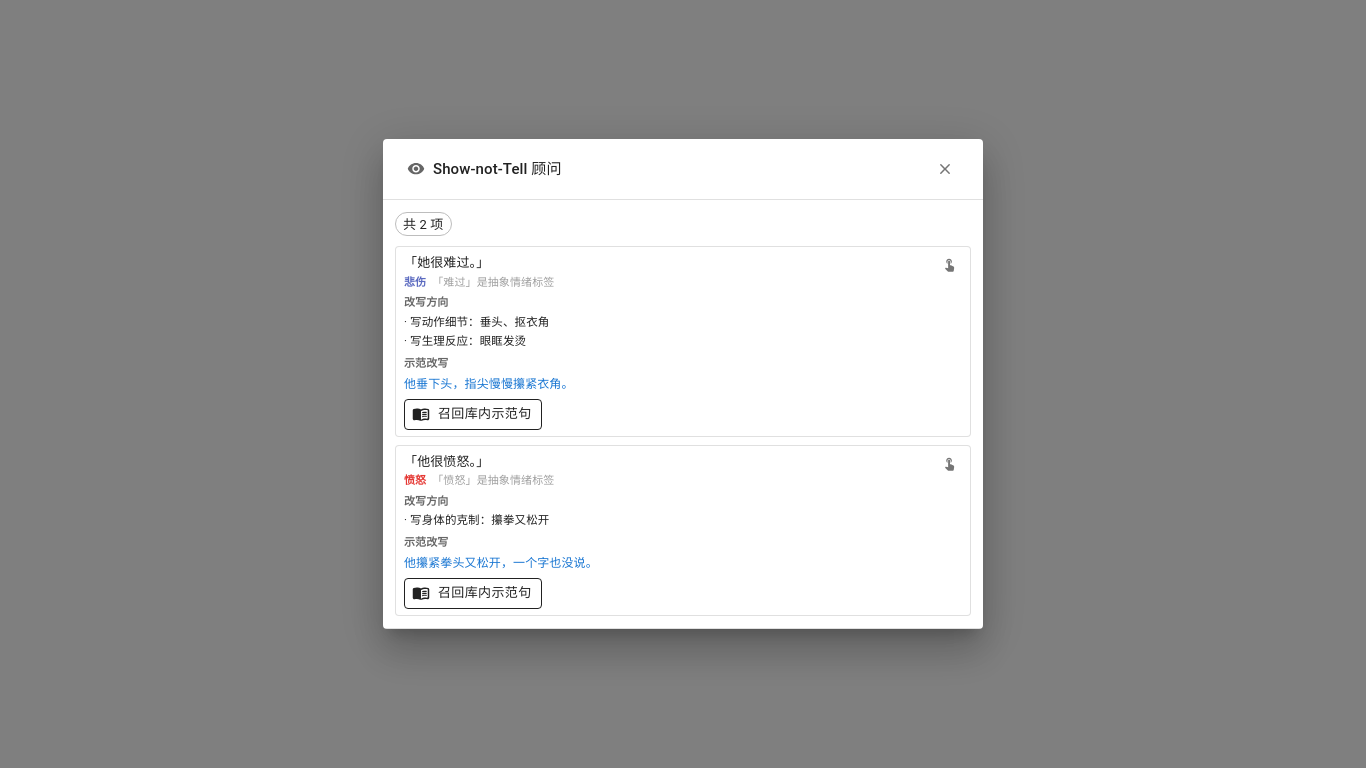
Scenario: Show-not-Tell 顾问面板（B3） › 召回库内示范句：以情绪词检索，渲染出处卡片；命中为空给出降级文案
What coordinates should you click on to do the following:
click the button with aria-label "召回库内示范句"
I would click on:
 (473, 414)
Its box is [404,399,542,430].
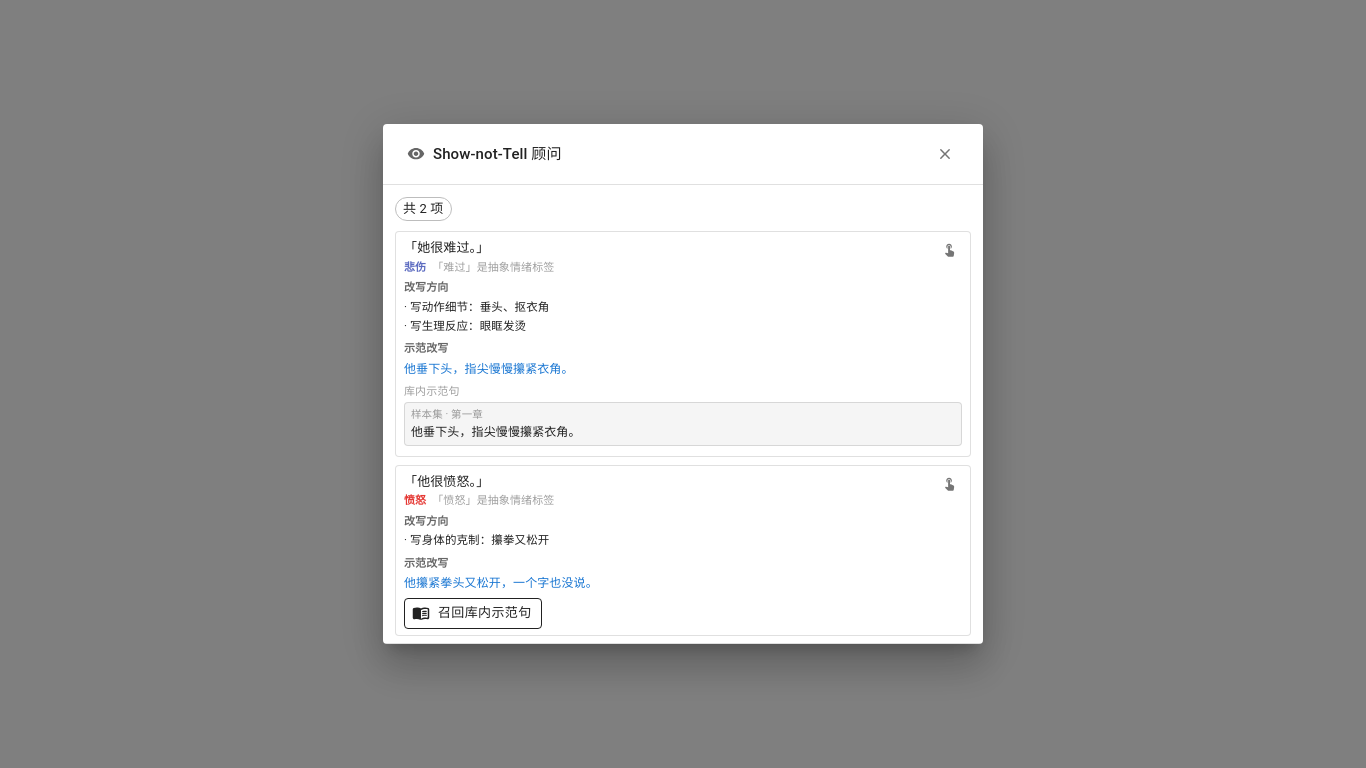
Now the text "样本集 · 第一章" is shown, box [411,408,483,421]
What coordinates should you click on to do the following:
click the button with aria-label "召回库内示范句"
I would click on:
 (473, 613)
Its box is [404,598,542,629].
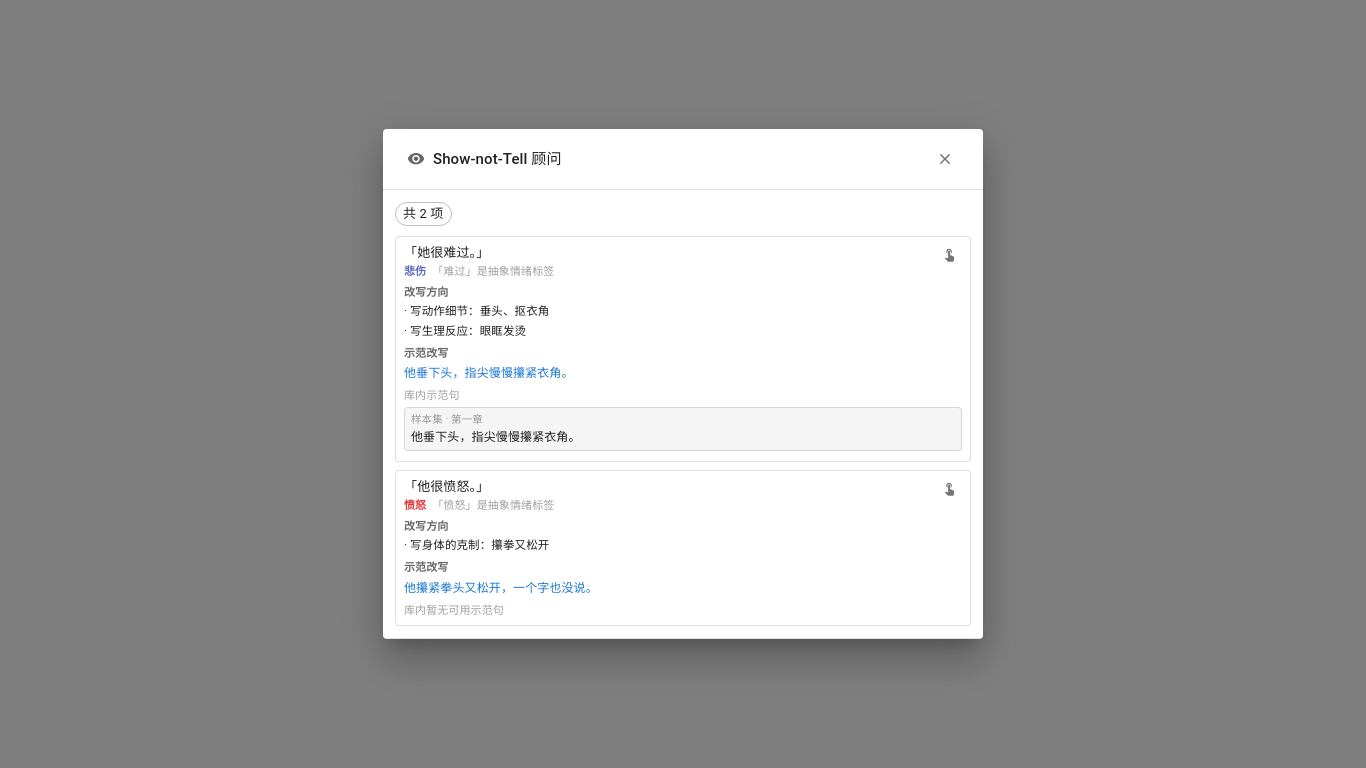
Now the text "库内暂无可用示范句" is shown, box [404,604,504,617]
